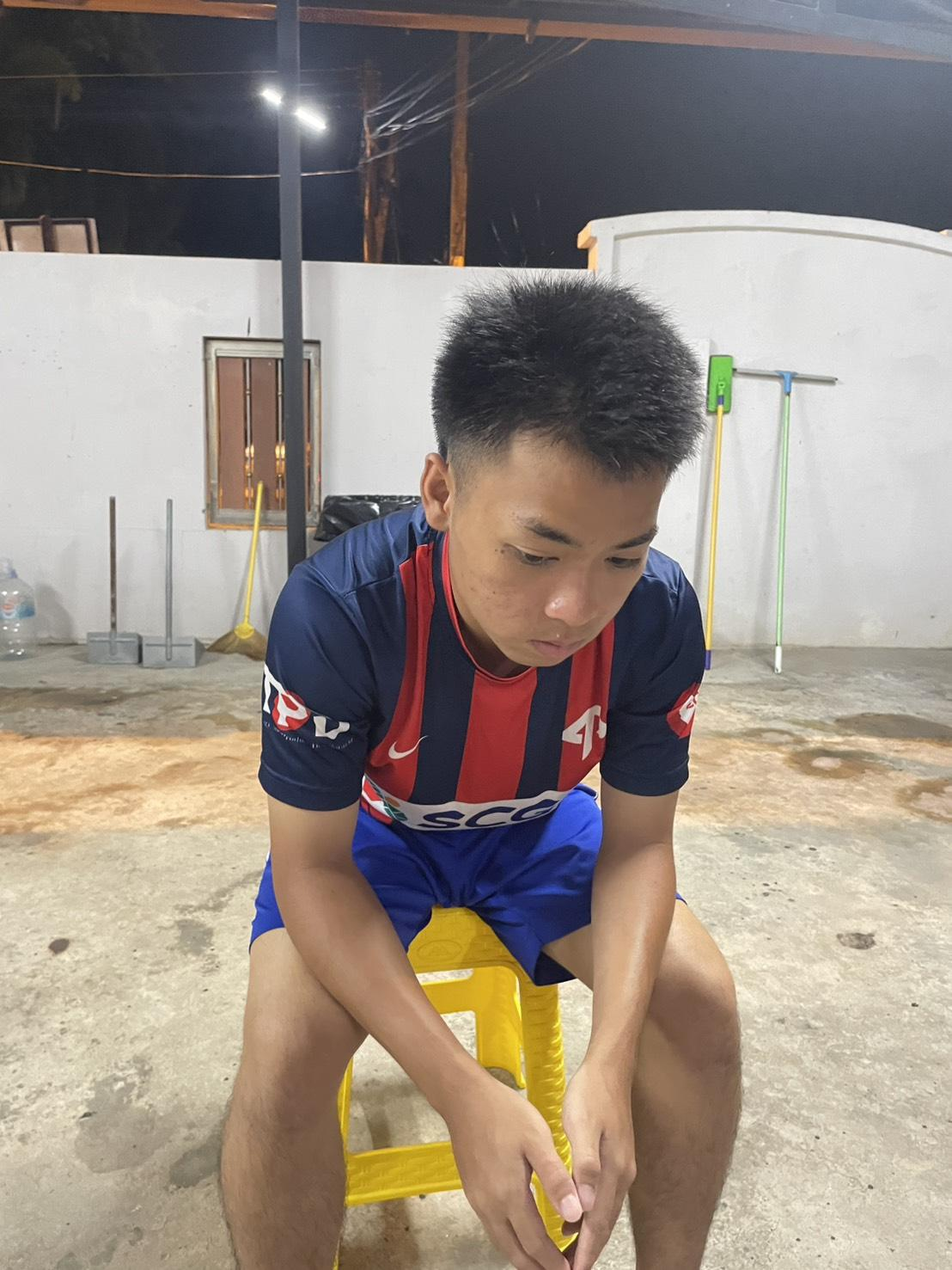BadPosture: (259, 275, 709, 928), (259, 274, 710, 837), (259, 275, 703, 831)
